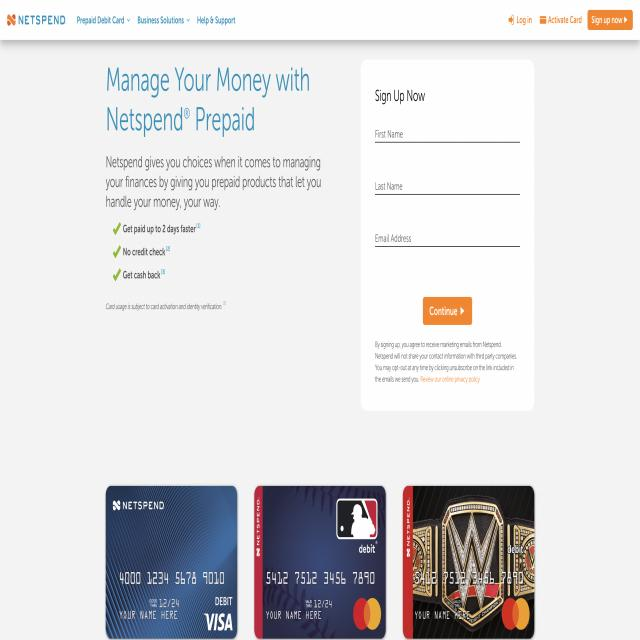Logo: (0, 0, 73, 36)
Navigation: (77, 0, 640, 37)
